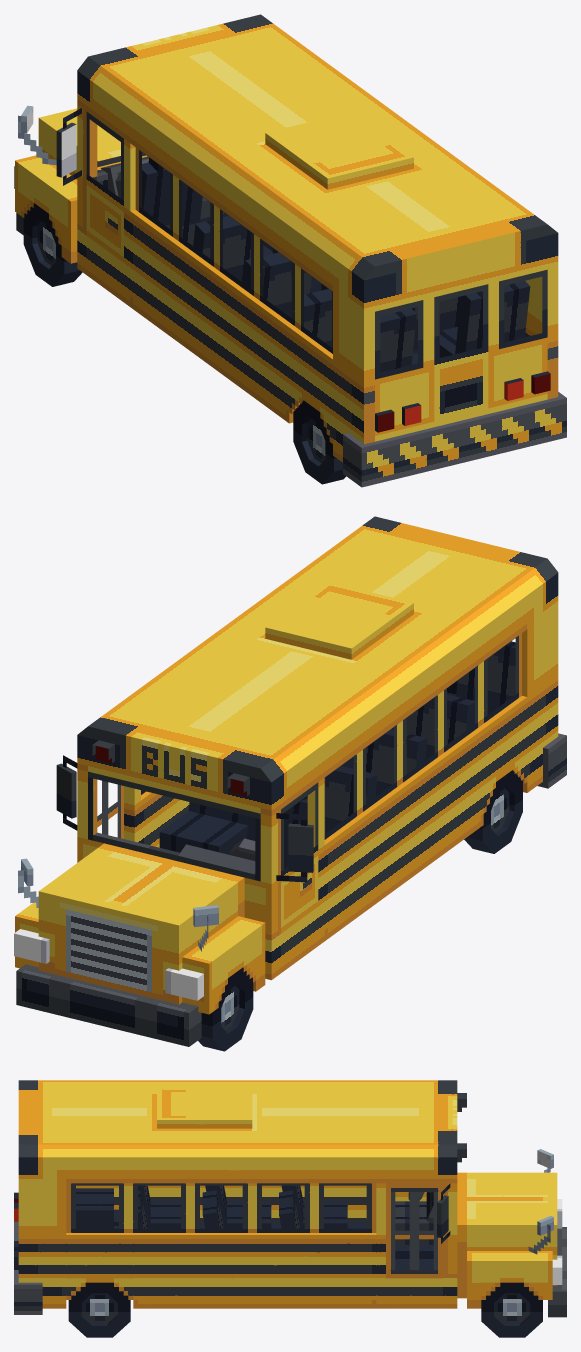
The model's file is school-bus-named-nodes.gltf.
The picture shows the model from 3 angles, top to bottom: view 1: azimuth 30°, elevation 25°; view 2: azimuth 150°, elevation 25°; view 3: azimuth 270°, elevation 25°; orthographic projection. The views are drawn at different scales.
Visible parts, largest first — view 1: cube (×39), tube (×2); view 2: cube (×36), tube (×2); view 3: cube (×35), tube (×2).
Part boxes in pixels (left/top/right/bottom): cube (×39): left=15, top=14, right=566, bottom=487; tube (×2): left=23, top=203, right=346, bottom=484; cube (×36): left=14, top=516, right=566, bottom=1046; tube (×2): left=198, top=770, right=522, bottom=1051; cube (×35): left=14, top=1080, right=566, bottom=1323; tube (×2): left=68, top=1282, right=542, bottom=1337.
Size of the model in its own units: 2.97 by 2.88 by 7.25.
1 material, 1 textured.
